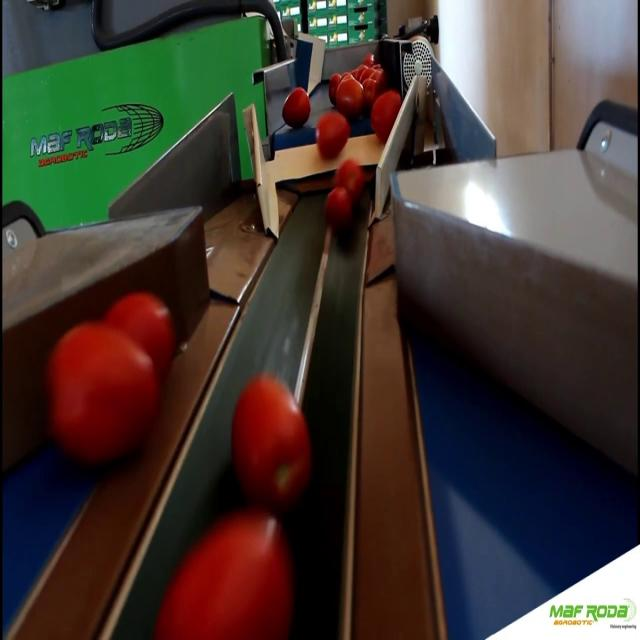Tomato: (155, 514, 296, 640), (54, 317, 157, 462), (226, 367, 314, 505), (112, 265, 184, 382), (372, 88, 404, 144), (321, 185, 353, 236), (311, 112, 352, 151), (279, 88, 314, 128), (338, 149, 367, 189), (335, 76, 367, 110)
